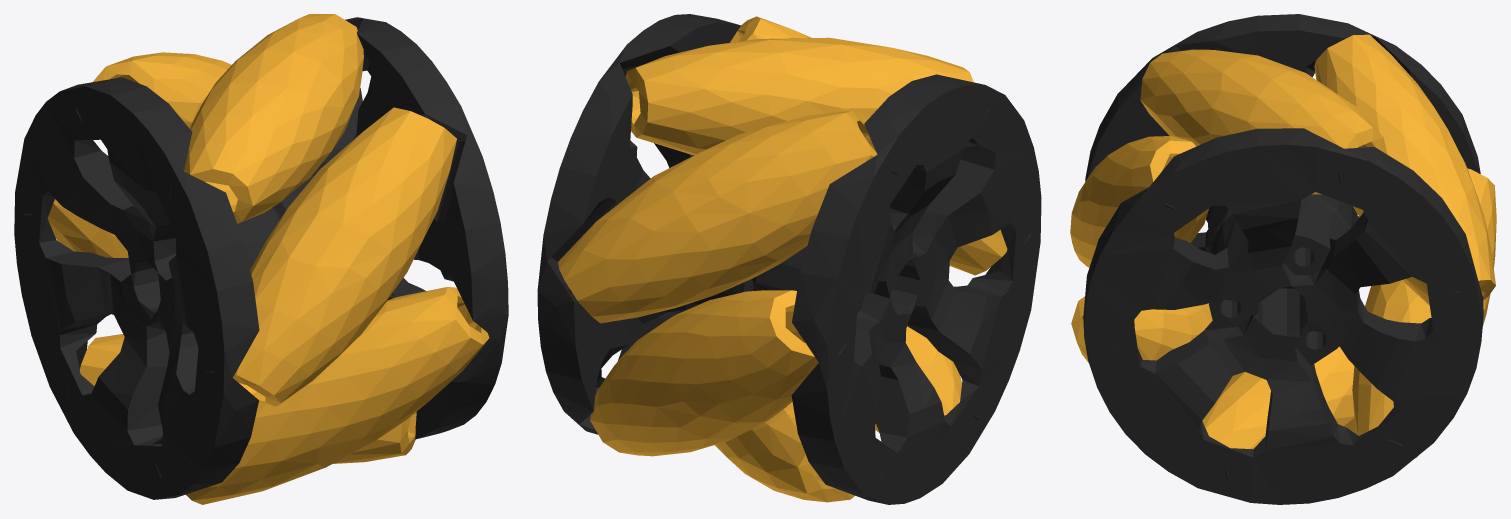
The model's file is wheel.dae.
The picture shows the model from 3 angles, left to right: view 1: azimuth 30°, elevation 25°; view 2: azimuth 150°, elevation 25°; view 3: azimuth 270°, elevation 25°; orthographic projection. The views are drawn at different scales.
Visible parts, largest first — view 1: node; view 2: node; view 3: node.
Part boxes in pixels (<box>): node: <box>14,14,508,504</box>; node: <box>537,14,1041,504</box>; node: <box>1070,14,1496,504</box>.
Size of the model in its own units: 0.073 by 0.1 by 0.0997.
